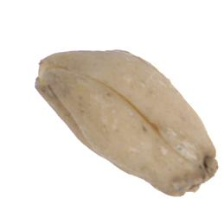L1: (180, 151, 219, 194), (34, 51, 62, 97)
L2: (33, 48, 219, 197)
